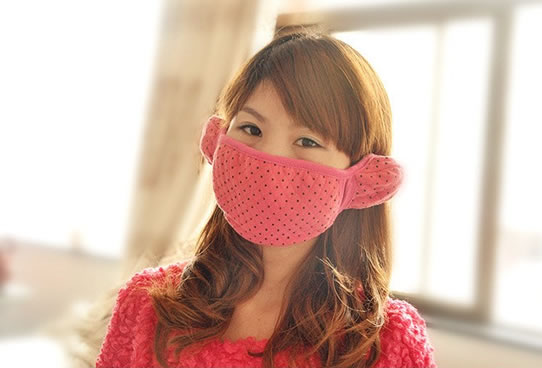face_mask: (212, 79, 339, 243)
